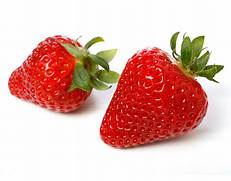Fresa: (97, 41, 214, 152), (5, 34, 99, 117)
